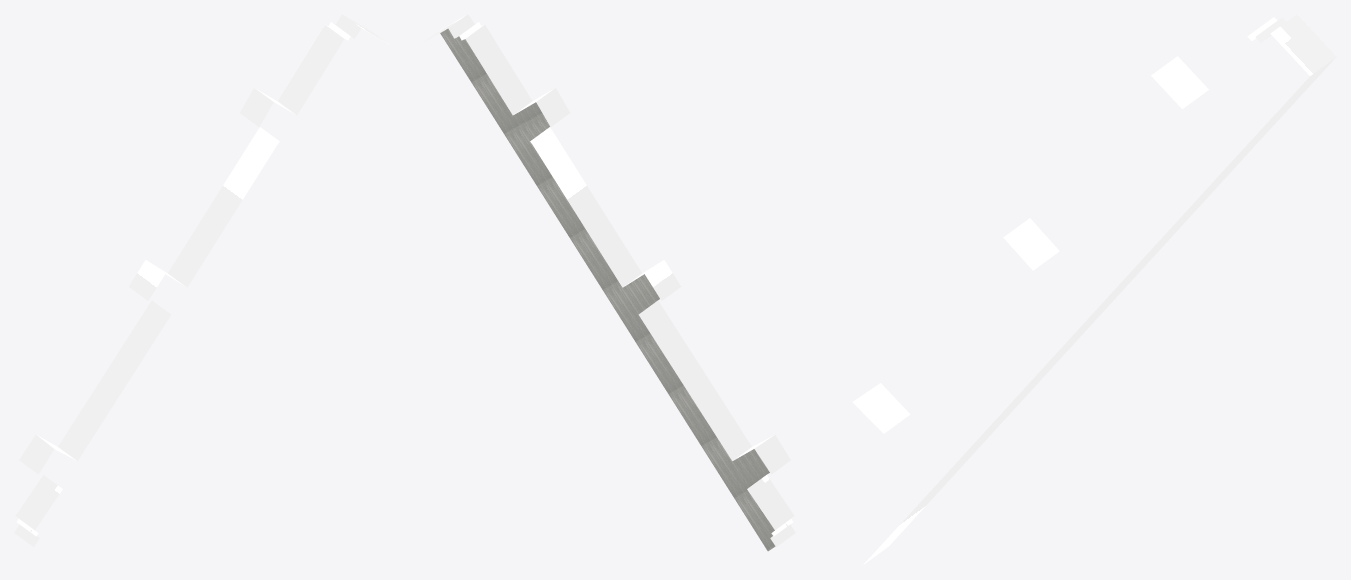
3 renders of one model, left to right at view 1: azimuth 30°, elevation 25°; view 2: azimuth 150°, elevation 25°; view 3: azimuth 330°, elevation 25°, orthographic. The views are drawn at different scales.
Visible parts, largest first — view 1: BuildingMaster_1971194467634464720300000000_0; view 2: BuildingMaster_1971194467634464720300000000_0, BuildingMaster_1971194467634464720300000000_1; view 3: BuildingMaster_1971194467634464720300000000_0.
Part boxes in pixels (left/top/right/bottom): BuildingMaster_1971194467634464720300000000_0: left=14, top=14, right=389, bottom=546; BuildingMaster_1971194467634464720300000000_0: left=420, top=14, right=795, bottom=546; BuildingMaster_1971194467634464720300000000_1: left=440, top=28, right=775, bottom=551; BuildingMaster_1971194467634464720300000000_0: left=852, top=14, right=1336, bottom=564.
Bounding box in the file's own units: 73.25 × 91 × 7.
